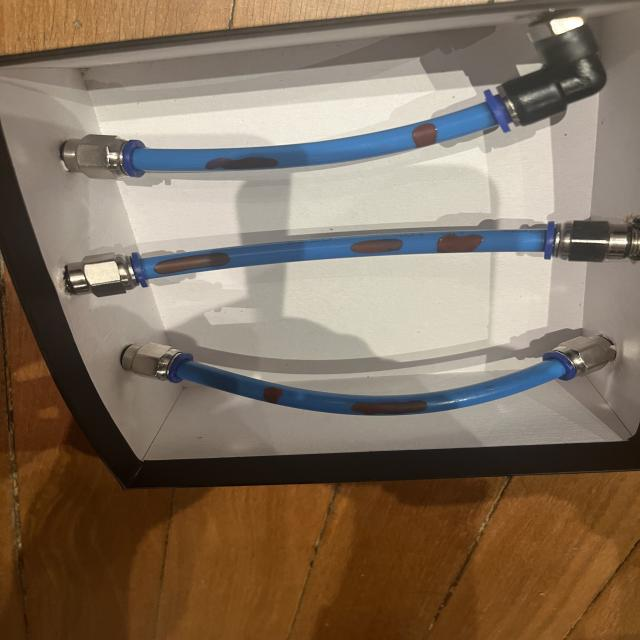hose_damage: (147, 248, 238, 282), (198, 156, 282, 172), (348, 400, 431, 416), (431, 232, 484, 256), (347, 239, 406, 255), (409, 122, 440, 149), (259, 385, 284, 404)
